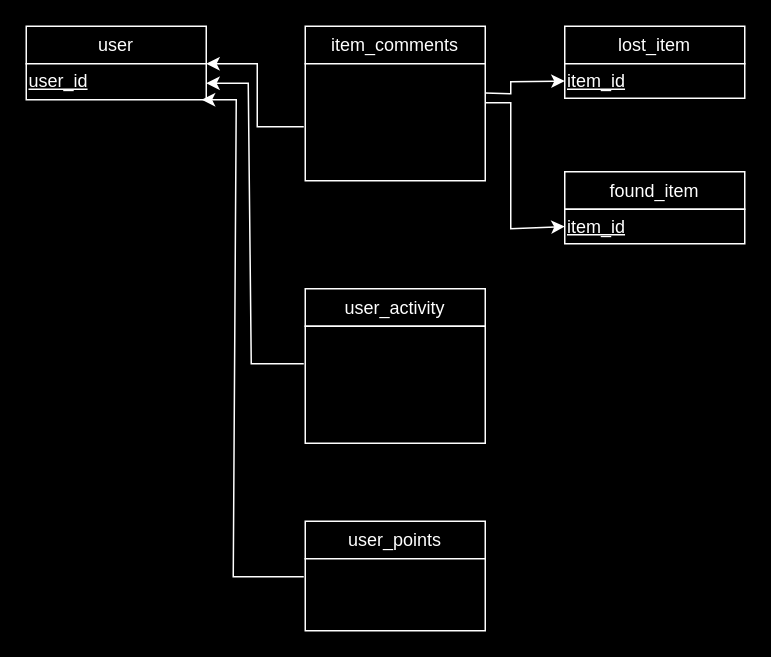
This 771x657 diagram has some shape labels left out. Here are the shapes that lost their labels. From the top down, the centre of each, then its label:
point (394, 121): comment_id item_id user_id content date
point (394, 384): activity_id user_id activity_type score date
point (394, 594): user_id points date
